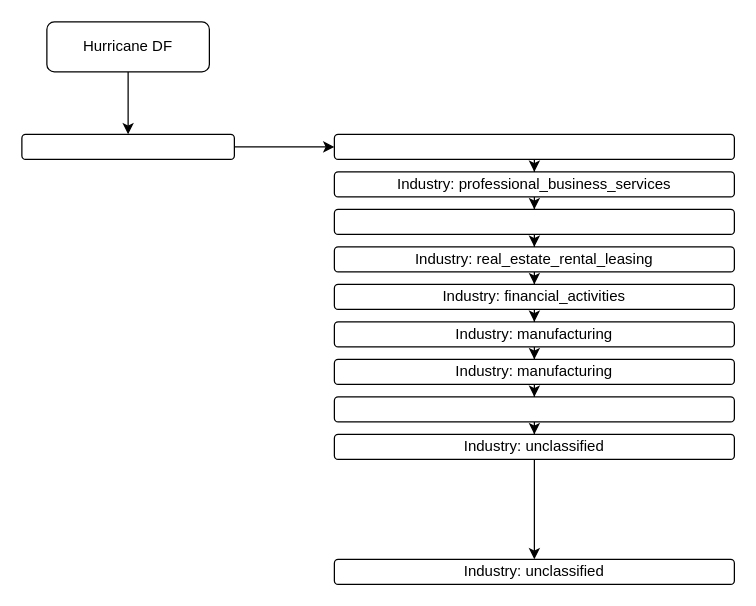
The diagram is 756 pixels wide and 606 high, and some of its shapes have lost their labels. Each missing label, with the box of its shape:
Andrew: (21, 133, 234, 159)
Industry: agriculture_forestry_fishing_and_hunting: (333, 133, 734, 159)
Industry: construction: (333, 396, 734, 422)
Industry: educational_services: (333, 208, 734, 234)
